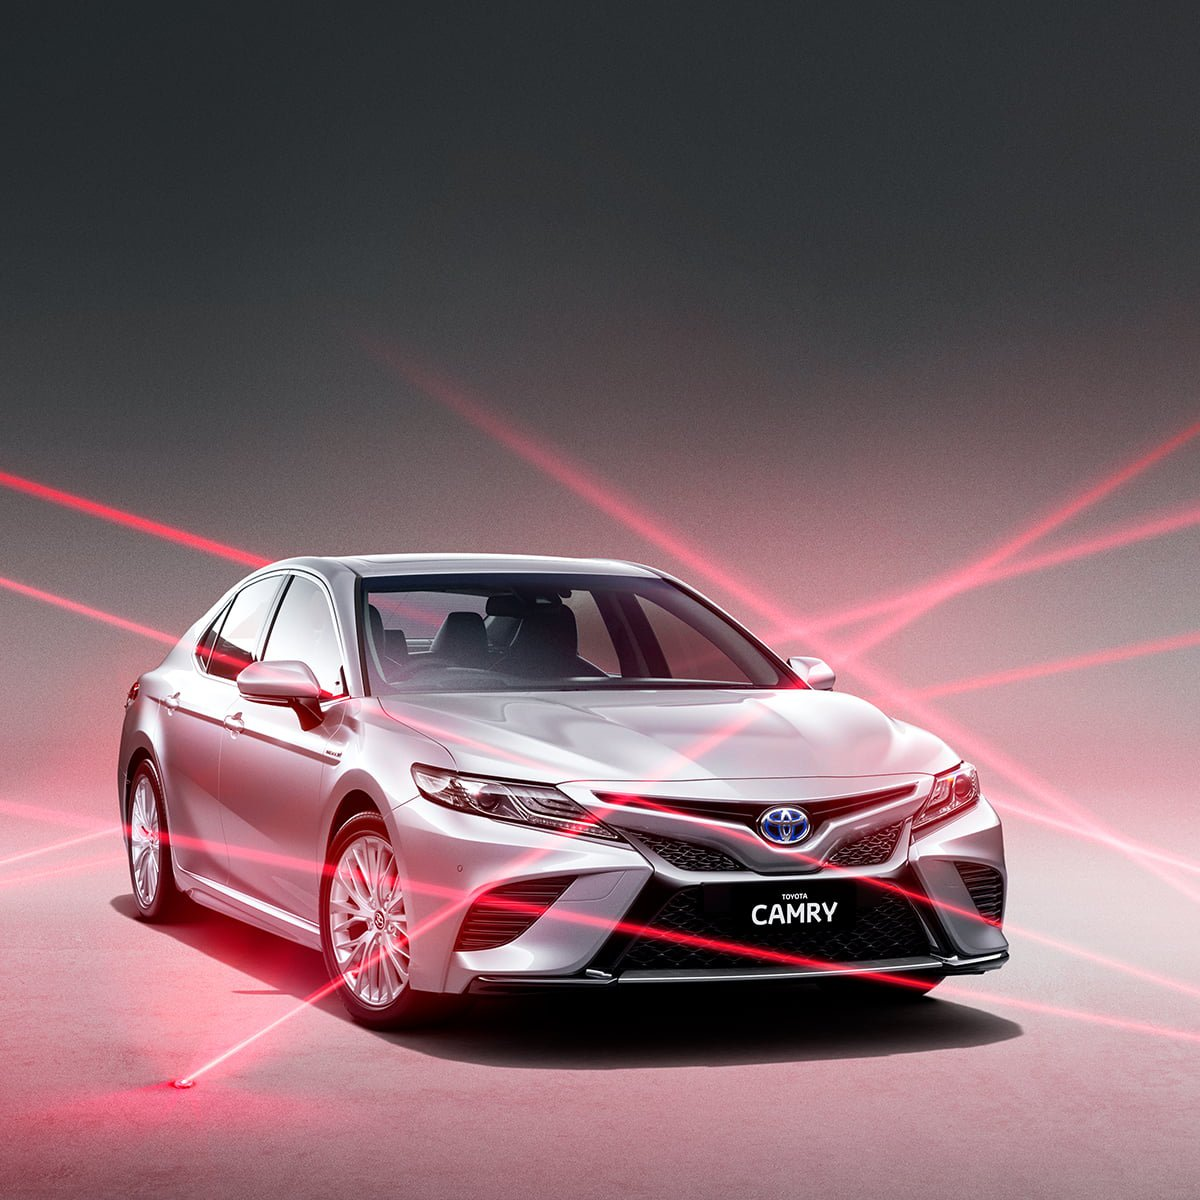car: (111, 510, 1011, 1016)
